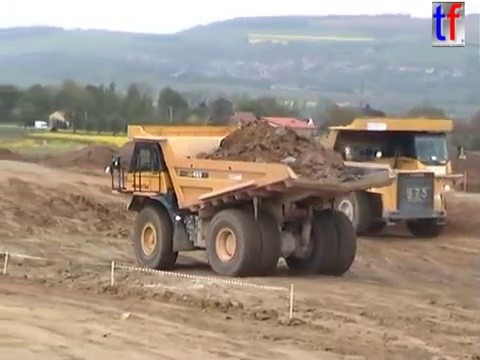truck: (103, 121, 399, 278), (221, 115, 469, 239)
